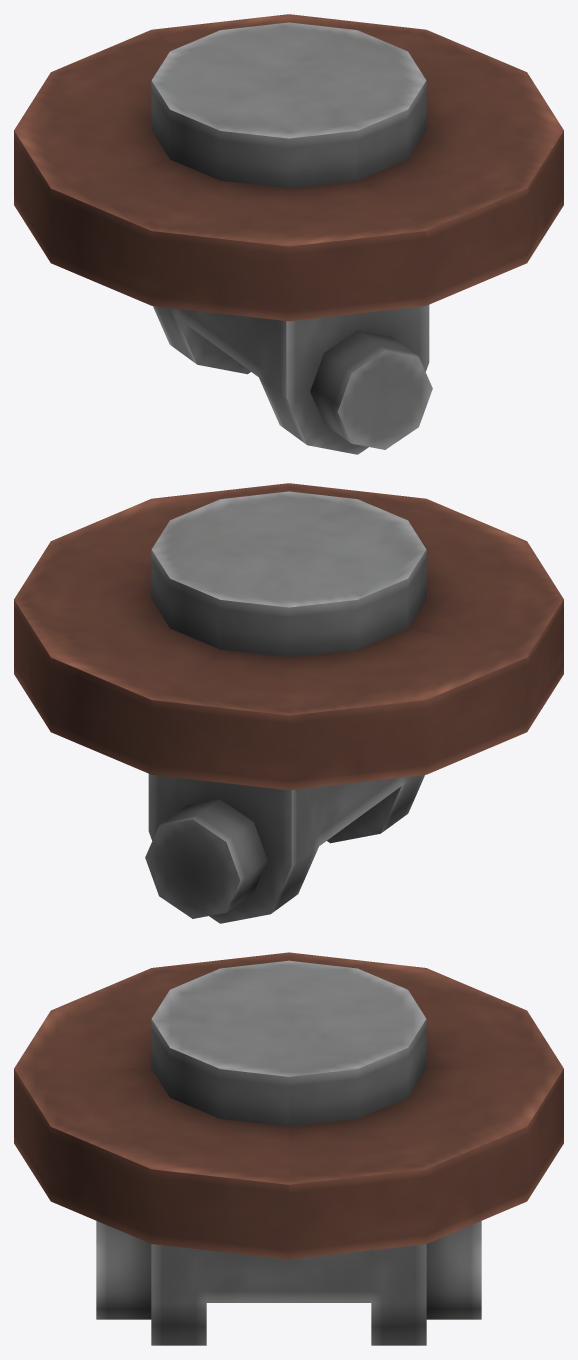
The picture shows the model from 3 angles, top to bottom: view 1: azimuth 30°, elevation 25°; view 2: azimuth 150°, elevation 25°; view 3: azimuth 270°, elevation 25°; orthographic projection.
Parts seen in each view (by area): view 1: base1; view 2: base1; view 3: base1.
Boxes of the visible parts, x1,y1,x2,y2 form: base1: (14, 14, 563, 454); base1: (14, 483, 563, 923); base1: (14, 952, 563, 1345).
Bounding box in the file's own units: 0.25 × 0.1625 × 0.25.
1 material, 1 textured.
